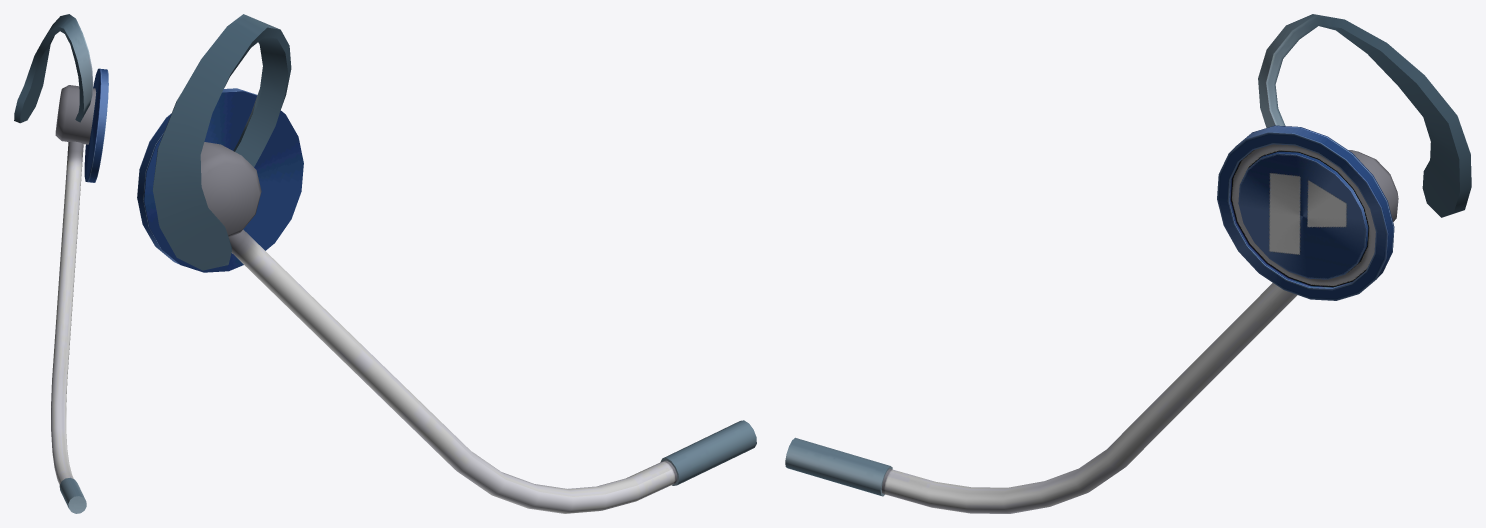
The model's file is EntrainingIntercomKoga.fbx.
3 renders of one model, left to right at view 1: azimuth 30°, elevation 25°; view 2: azimuth 150°, elevation 25°; view 3: azimuth 270°, elevation 25°, orthographic. The views are drawn at different scales.
Visible parts, largest first — view 1: EntrainingIntercomKoga; view 2: EntrainingIntercomKoga; view 3: EntrainingIntercomKoga.
Part boxes in pixels (x1,y1,x2,y2): EntrainingIntercomKoga: (14, 14, 108, 513); EntrainingIntercomKoga: (137, 14, 756, 513); EntrainingIntercomKoga: (785, 14, 1471, 513).
Bounding box in the file's own units: 0.0458 × 0.0746 × 0.0781.
1 material, 1 textured.
